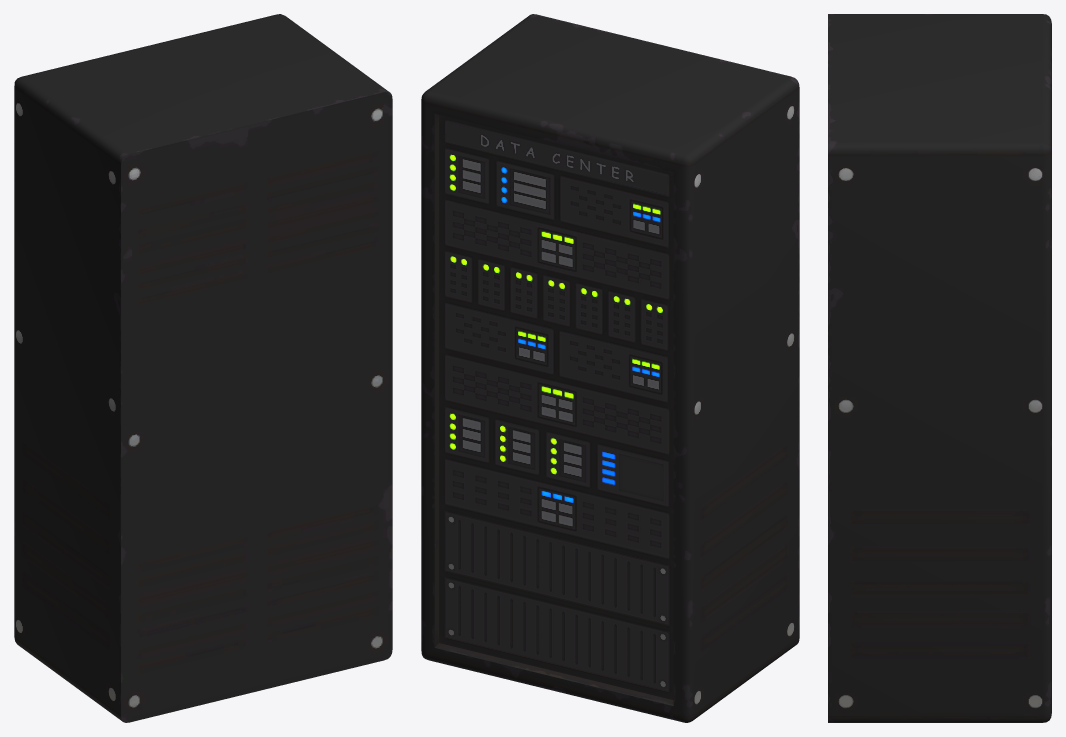
The model's file is OfficeServer01__2.fbx.
The picture shows the model from 3 angles, left to right: view 1: azimuth 30°, elevation 25°; view 2: azimuth 150°, elevation 25°; view 3: azimuth 270°, elevation 25°; orthographic projection.
Parts seen in each view (by area): view 1: OfficeServer01A; view 2: OfficeServer01A; view 3: OfficeServer01A.
Part boxes in pixels (bbox=[...]): OfficeServer01A: bbox=[14, 14, 392, 722]; OfficeServer01A: bbox=[421, 14, 799, 722]; OfficeServer01A: bbox=[828, 14, 1051, 722].
Size of the model in its own units: 1 by 2 by 0.7.
1 material, 1 textured.
